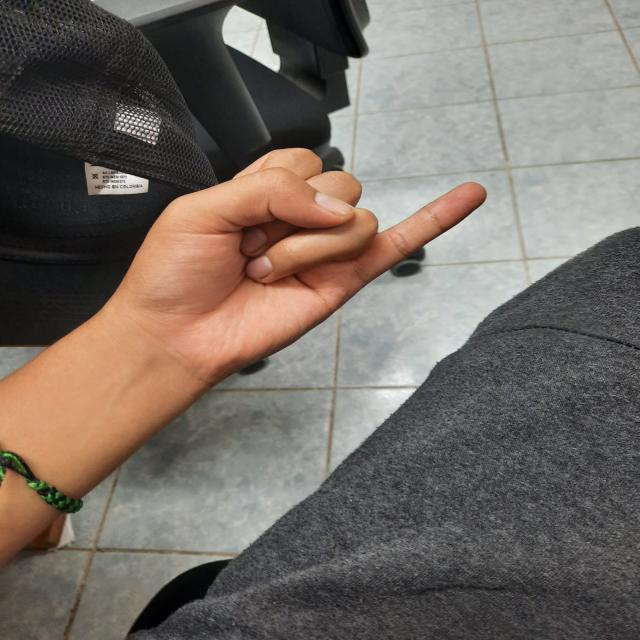Z: (87, 139, 519, 404)
